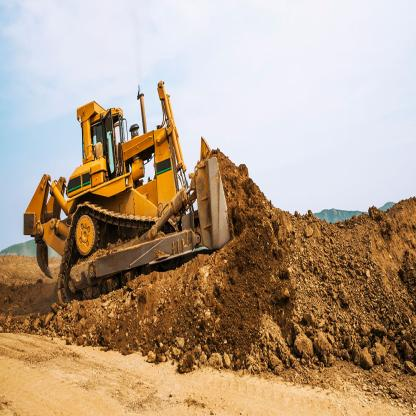bull_dozer/loader/grader: (23, 73, 239, 312)
